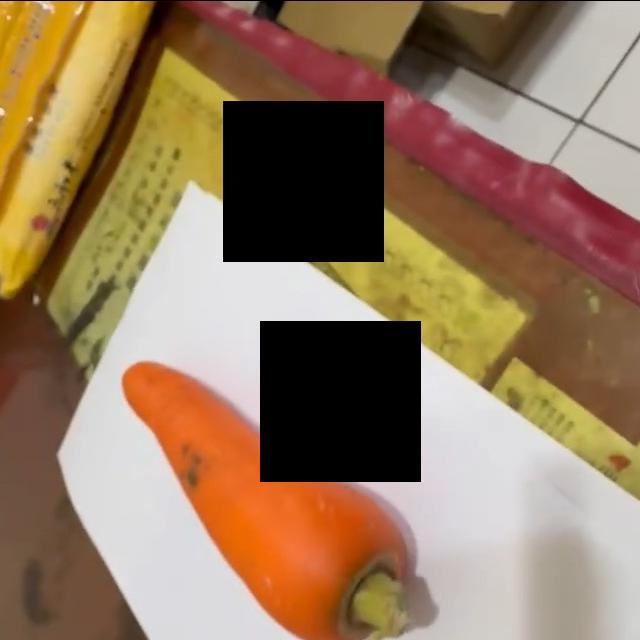carrot: (122, 356, 419, 640)
